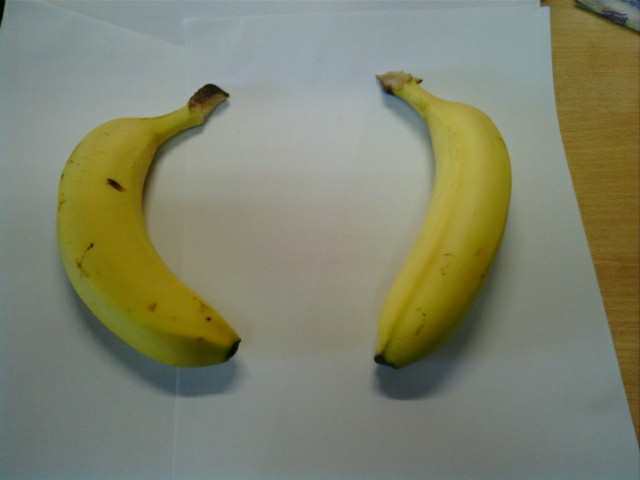fresh_banana: (367, 72, 515, 369)
normal_banana: (54, 84, 242, 364)
